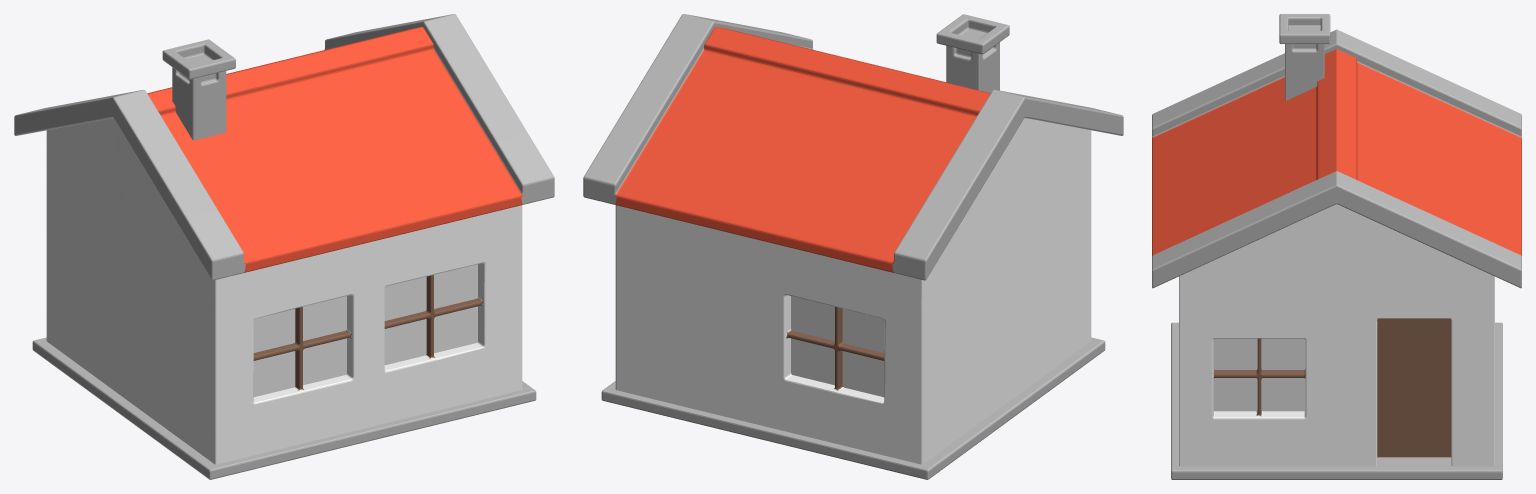
Rendered from house_1.1.1.fbx.
The picture shows the model from 3 angles, left to right: view 1: azimuth 30°, elevation 25°; view 2: azimuth 150°, elevation 25°; view 3: azimuth 270°, elevation 25°; orthographic projection. The views are drawn at different scales.
Parts seen in each view (by area): view 1: Building_02; view 2: Building_02; view 3: Building_02.
Boxes of the visible parts, x1,y1,x2,y2 form: Building_02: (14,14,554,479); Building_02: (583,14,1123,479); Building_02: (1152,14,1521,479).
Size of the model in its own units: 80 by 80 by 80.
